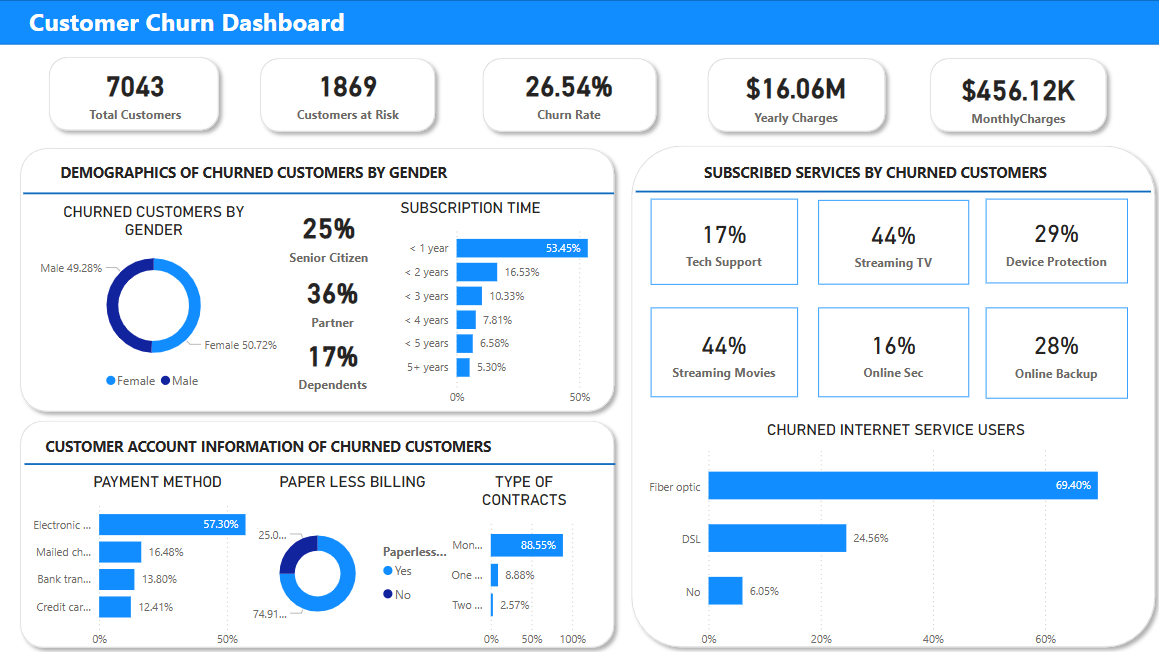

Layout of this report page (visuals, bound fields, positions):
{"tool":"powerbi","page":{"name":"Churn Dashboard","canvas":[1280,720],"ordinal":0},"visuals":[{"type":"shape","box":[0,0,1280,49],"z":0},{"type":"textbox","box":[30,0,367.1,52.9],"z":1000},{"type":"shape","box":[48.6,52.9,204.3,98.6],"z":2000},{"type":"card","title":"Total Customers","fields":{"Values":["CountNonNull(Customer Churn-Dataset.customerID)"]},"box":[92.9,51.4,117.1,101.4],"z":3000},{"type":"shape","box":[280,54.3,210,98.6],"z":4000},{"type":"shape","box":[524.3,54.3,208.6,98.6],"z":5000},{"type":"shape","box":[771.4,54.3,212.9,98.6],"z":6000},{"type":"shape","box":[1015.7,54.3,211.4,98.6],"z":7000},{"type":"card","title":"Total Customers","fields":{"Values":["Customer Churn-Dataset.% Churn Rate"]},"box":[570,51.4,117.1,101.4],"z":8000},{"type":"card","title":"Total Customers","fields":{"Values":["Sum(Customer Churn-Dataset.FixedTotalCharges)"]},"box":[814.3,52.9,127.1,101.4],"z":9000},{"type":"card","title":"Total Customers","fields":{"Values":["Sum(Customer Churn-Dataset.MonthlyCharges)"]},"box":[1047.1,54.3,148.6,101.4],"z":10000},{"type":"card","title":"Total Customers","fields":{"Values":["CountNonNull(Customer Churn-Dataset.customerID)"]},"box":[305.7,51.4,158.6,101.4],"z":11000},{"type":"shape","box":[17.1,154.3,670,307.1],"z":12000},{"type":"shape","box":[17.1,452.9,670,267.1],"z":13000},{"type":"shape","box":[687.1,151.4,592.9,568.6],"z":14000},{"type":"donutChart","title":"CHURNED CUSTOMERS BY GENDER","fields":{"Category":["Customer Churn-Dataset.gender"],"Y":["Customer Churn-Dataset.% Churn Rate"]},"box":[17.1,222.9,311.4,214.3],"z":15000},{"type":"clusteredBarChart","title":"SUBSCRIPTION TIME","fields":{"Category":["Customer Churn-Dataset.Tenure Group"],"Y":["CountNonNull(Customer Churn-Dataset.Churn)"]},"box":[437.1,218.6,268.6,235.7],"z":16000},{"type":"textbox","box":[64.3,172.9,471.4,45.7],"z":17000},{"type":"shape","box":[28.6,205.7,648.6,12.9],"z":18000},{"type":"card","fields":{"Values":["Customer Churn-Dataset.Senior Citizen"]},"box":[275.7,220,177.1,77.1],"z":19000},{"type":"card","fields":{"Values":["Customer Churn-Dataset.% of partner"]},"box":[280,291.4,177.1,77.1],"z":20000},{"type":"card","fields":{"Values":["Customer Churn-Dataset.% of Dependents"]},"box":[280,360,177.1,77.1],"z":21000},{"type":"textbox","box":[771.4,172.9,455.7,40],"z":22000},{"type":"shape","box":[701.4,201.4,565.7,17.1],"z":23000},{"type":"textbox","box":[48.6,472.9,521.4,45.7],"z":24000},{"type":"shape","box":[30,501.4,648.6,17.1],"z":25000},{"type":"barChart","title":"CHURNED INTERNET SERVICE USERS","fields":{"Category":["Customer Churn-Dataset.InternetService"],"Y":["CountNonNull(Customer Churn-Dataset.Churn)"]},"box":[705.7,461.4,562.9,258.6],"z":26000},{"type":"clusteredBarChart","title":"PAYMENT METHOD","fields":{"Category":["Customer Churn-Dataset.PaymentMethod"],"Y":["CountNonNull(Customer Churn-Dataset.Churn)"]},"box":[22.9,518.6,305.7,201.4],"z":27000},{"type":"donutChart","title":"PAPER LESS BILLING","fields":{"Category":["Customer Churn-Dataset.PaperlessBilling"],"Y":["CountNonNull(Customer Churn-Dataset.Churn)"]},"box":[275.7,518.6,228.6,201.4],"z":28000},{"type":"clusteredBarChart","title":"TYPE OF CONTRACTS","fields":{"Category":["Customer Churn-Dataset.Contract"],"Y":["CountNonNull(Customer Churn-Dataset.Churn)"]},"box":[480,518.6,197.1,201.4],"z":29000},{"type":"card","fields":{"Values":["Customer Churn-Dataset.% Tech Support"]},"box":[717.1,218.6,161.4,94.3],"z":30000},{"type":"card","fields":{"Values":["Customer Churn-Dataset.% Streaming TV"]},"box":[901.4,220,165.7,92.9],"z":31000},{"type":"card","fields":{"Values":["Customer Churn-Dataset.% Device Protection"]},"box":[1085.7,218.6,155.7,92.9],"z":32000},{"type":"card","fields":{"Values":["Customer Churn-Dataset.% Streaming Movies"]},"box":[717.1,337.1,161.4,98.6],"z":33000},{"type":"card","fields":{"Values":["Customer Churn-Dataset.% Online Backup"]},"box":[1085.7,337.1,155.7,100],"z":34000},{"type":"card","fields":{"Values":["Customer Churn-Dataset.% Online Sec"]},"box":[901.4,337.1,165.7,98.6],"z":35000}]}

Visuals, with their boxes in screenshot pixels (x1, y1, x2, y2), scaled from the page's 1280x720 canvas onto the 1159x652 screenshot:
shape: [0, 0, 1158, 44]
textbox: [27, 0, 360, 48]
shape: [44, 48, 229, 137]
"Total Customers" card: [84, 47, 190, 138]
shape: [254, 49, 444, 138]
shape: [475, 49, 664, 138]
shape: [698, 49, 891, 138]
shape: [920, 49, 1111, 138]
"Total Customers" card: [516, 47, 622, 138]
"Total Customers" card: [737, 48, 852, 140]
"Total Customers" card: [948, 49, 1083, 141]
"Total Customers" card: [277, 47, 420, 138]
shape: [15, 140, 622, 418]
shape: [15, 410, 622, 651]
shape: [622, 137, 1158, 651]
"CHURNED CUSTOMERS BY GENDER" donutChart: [15, 202, 297, 396]
"SUBSCRIPTION TIME" clusteredBarChart: [396, 198, 639, 411]
textbox: [58, 157, 485, 198]
shape: [26, 186, 613, 198]
card - Customer Churn-Dataset.Senior Citizen: [250, 199, 410, 269]
card - Customer Churn-Dataset.% of partner: [254, 264, 414, 334]
card - Customer Churn-Dataset.% of Dependents: [254, 326, 414, 396]
textbox: [698, 157, 1111, 193]
shape: [635, 182, 1147, 198]
textbox: [44, 428, 516, 470]
shape: [27, 454, 614, 470]
"CHURNED INTERNET SERVICE USERS" barChart: [639, 418, 1149, 651]
"PAYMENT METHOD" clusteredBarChart: [21, 470, 298, 651]
"PAPER LESS BILLING" donutChart: [250, 470, 457, 651]
"TYPE OF CONTRACTS" clusteredBarChart: [435, 470, 613, 651]
card - Customer Churn-Dataset.% Tech Support: [649, 198, 795, 283]
card - Customer Churn-Dataset.% Streaming TV: [816, 199, 966, 283]
card - Customer Churn-Dataset.% Device Protection: [983, 198, 1124, 282]
card - Customer Churn-Dataset.% Streaming Movies: [649, 305, 795, 395]
card - Customer Churn-Dataset.% Online Backup: [983, 305, 1124, 396]
card - Customer Churn-Dataset.% Online Sec: [816, 305, 966, 395]
